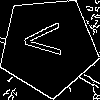V: (23, 21, 71, 58)
